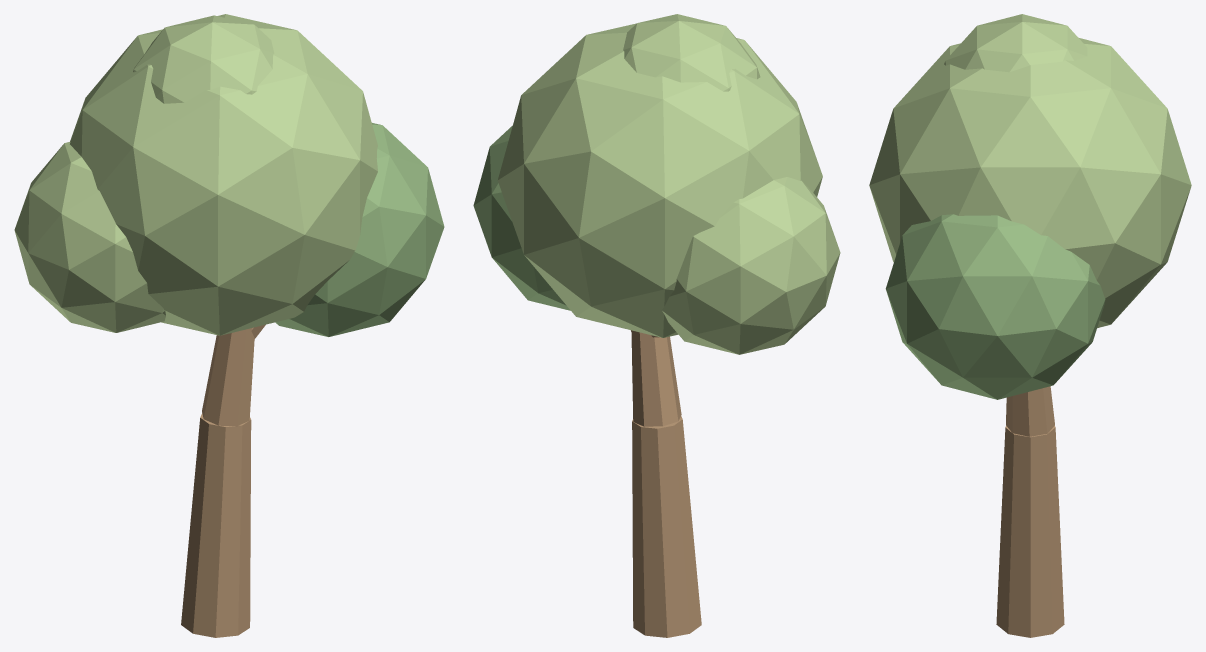
Rendered from tree_01.glb.
3 renders of one model, left to right at view 1: azimuth 30°, elevation 25°; view 2: azimuth 150°, elevation 25°; view 3: azimuth 270°, elevation 25°, orthographic.
Visible parts, largest first — view 1: canopy_main, canopy_l, canopy_r, trunk_a, canopy_top, trunk_b; view 2: canopy_main, canopy_l, trunk_a, canopy_top, canopy_r, trunk_b; view 3: canopy_main, canopy_r, trunk_a, canopy_top, trunk_b.
Boxes of the visible parts, left/top/right/bottom form: canopy_main: left=70, top=14, right=377, bottom=335; canopy_l: left=14, top=142, right=165, bottom=332; canopy_r: left=275, top=123, right=444, bottom=336; trunk_a: left=181, top=413, right=251, bottom=637; canopy_top: left=133, top=15, right=274, bottom=103; trunk_b: left=202, top=328, right=254, bottom=426; canopy_main: left=497, top=23, right=822, bottom=337; canopy_l: left=662, top=177, right=840, bottom=354; trunk_a: left=632, top=416, right=701, bottom=637; canopy_top: left=623, top=14, right=760, bottom=91; canopy_r: left=473, top=126, right=570, bottom=310; trunk_b: left=631, top=330, right=681, bottom=426; canopy_main: left=869, top=38, right=1191, bottom=328; canopy_r: left=885, top=214, right=1105, bottom=399; trunk_a: left=996, top=425, right=1064, bottom=637; canopy_top: left=944, top=14, right=1087, bottom=72; trunk_b: left=1006, top=386, right=1054, bottom=436.
Bounding box in the file's own units: 2.55 × 4 × 1.95.
